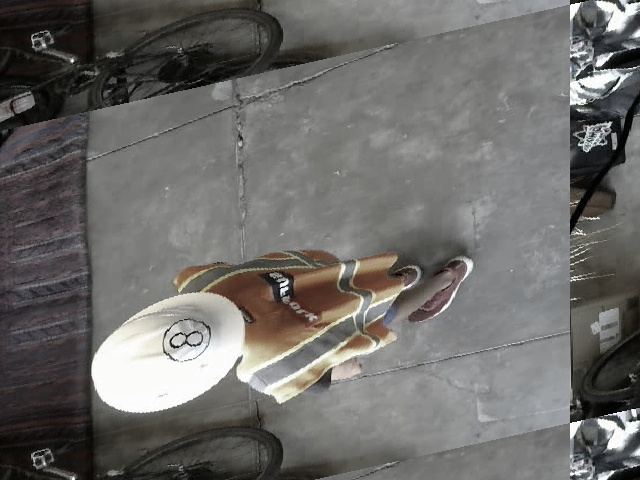eight: (160, 312, 209, 367)
